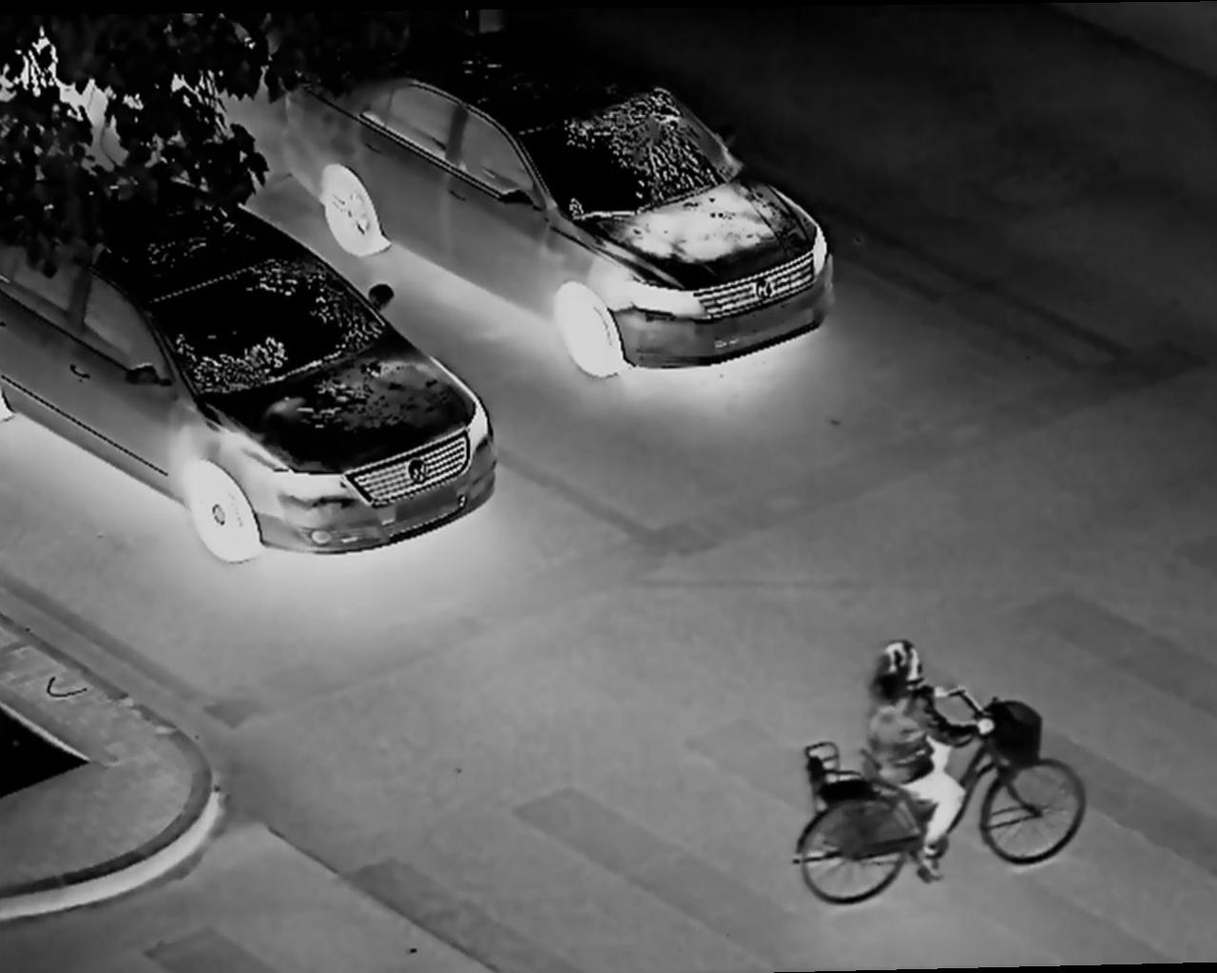person: (853, 628, 963, 896)
